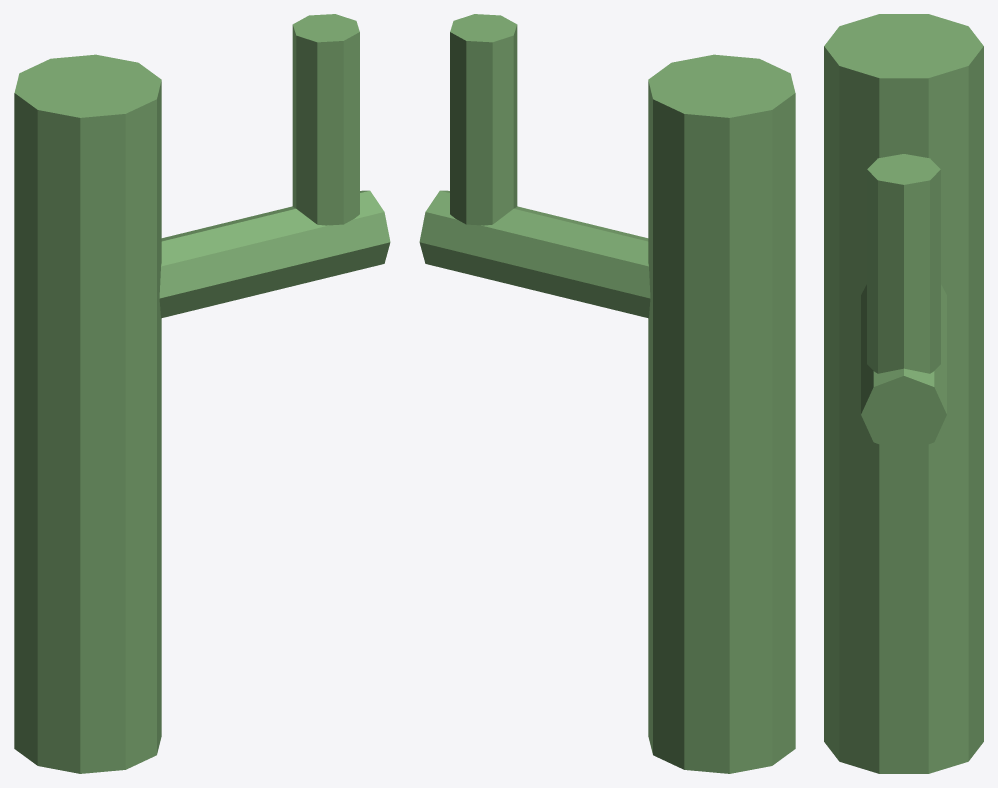
Rendered from cactus.glb.
3 views of the same model, side by side, from view 1: azimuth 30°, elevation 25°; view 2: azimuth 150°, elevation 25°; view 3: azimuth 270°, elevation 25° (orthographic). The views are drawn at different scales.
Parts seen in each view (by area): view 1: stem; view 2: stem; view 3: stem.
Part boxes in pixels (x1,y1,x2,y2): stem: (14, 14, 390, 773); stem: (419, 14, 795, 773); stem: (824, 14, 983, 773).
Size of the model in its own units: 1.37 by 2.5 by 0.52.
